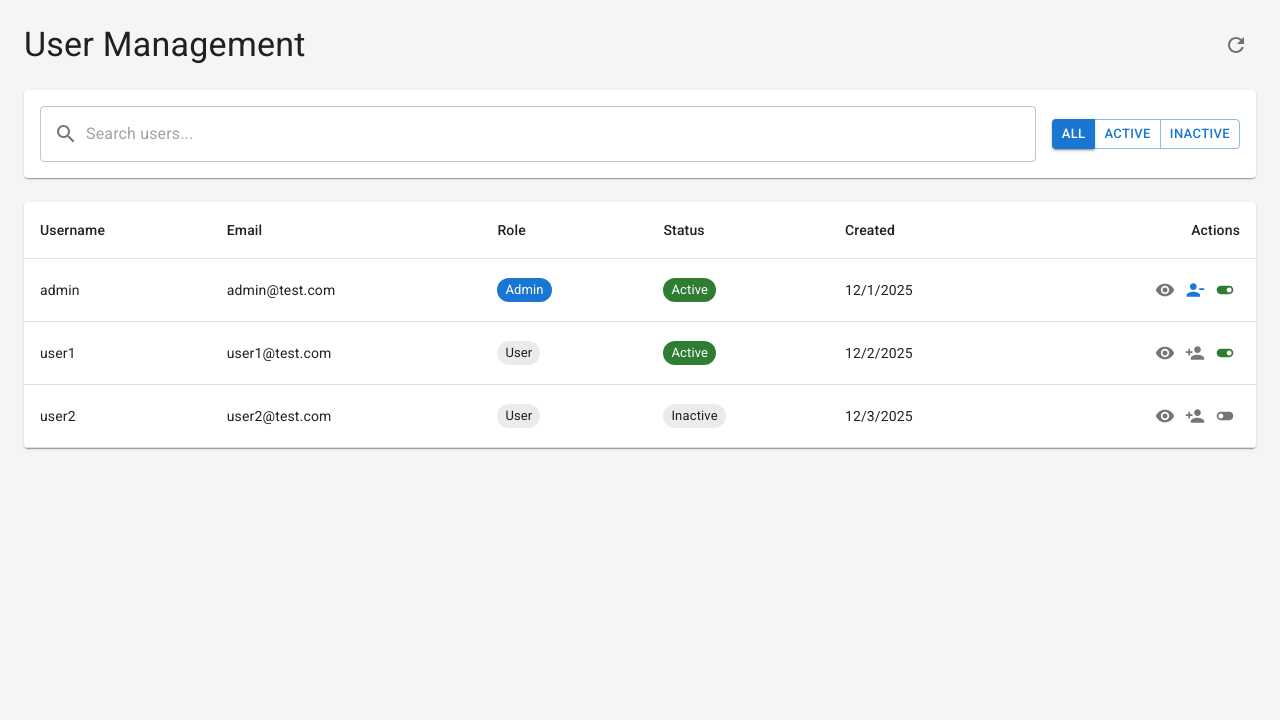
UsersManagement Page - TDD (Rebuilt with Admin V1 API) › 6. User Devices Viewing › should close devices dialog when close button clicked
Expected: the text "user1" is shown, [24,322,211,384]
Note: Open devices dialog
Click the button named "view devices" in the row of "user1@test.com" at (1165, 353), box [1150,338,1180,368]
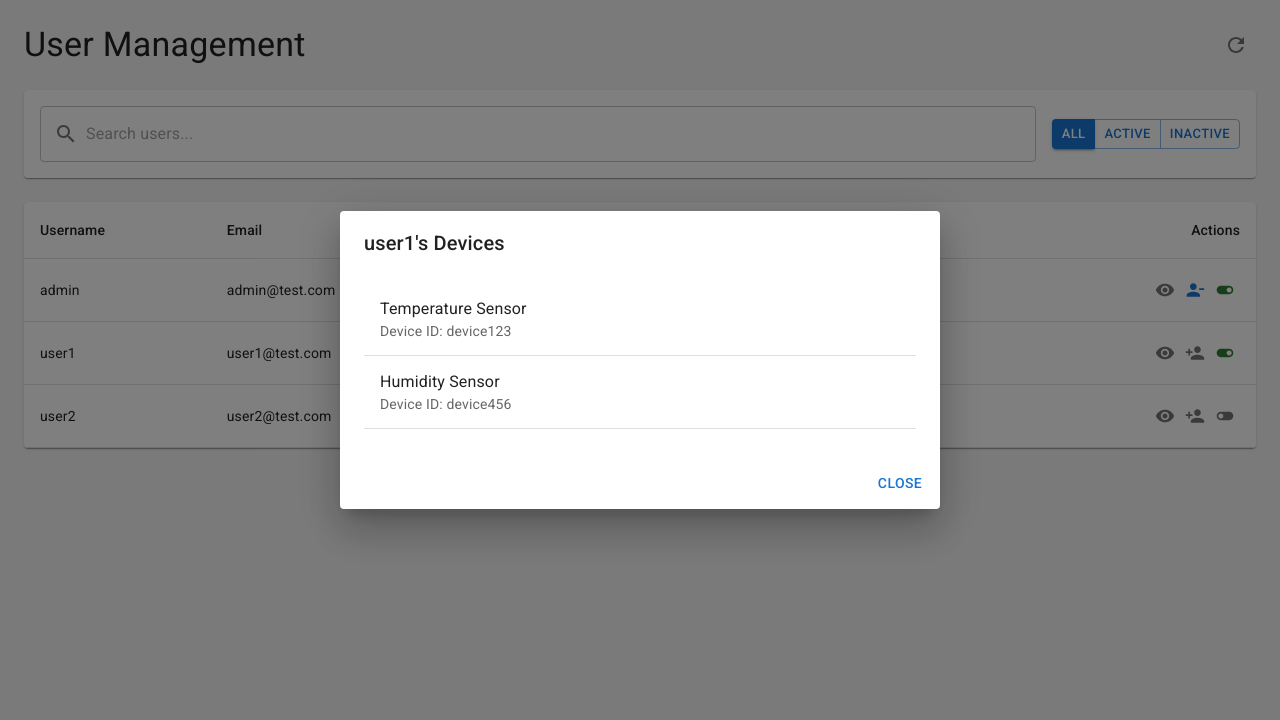
Result: the heading "user1's Devices" is shown at [364,231,505,255]
Note: Close dialog
Click the button "Close" at (900, 483), box [868,465,932,501]
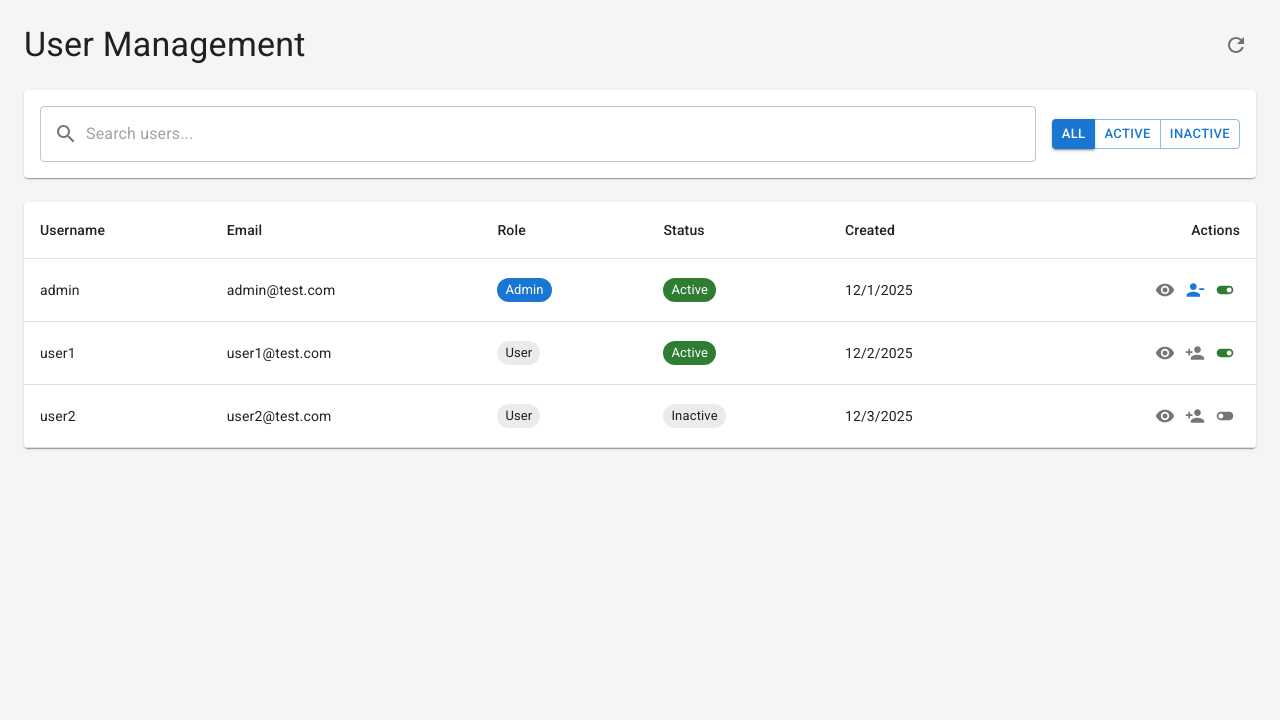
Result: the heading "user1's Devices" is gone
